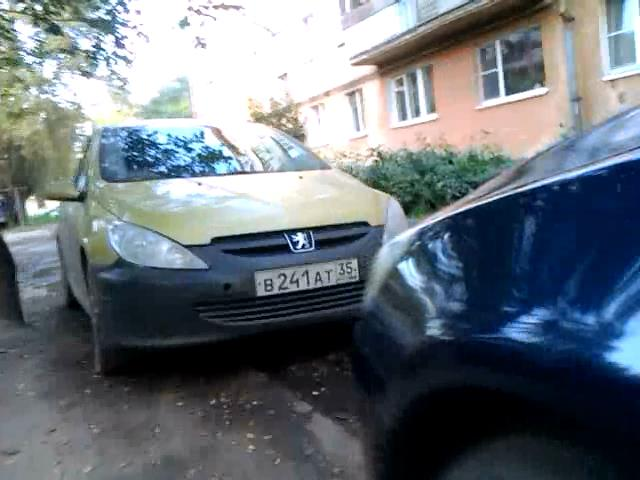car license plate: (251, 257, 364, 298)
